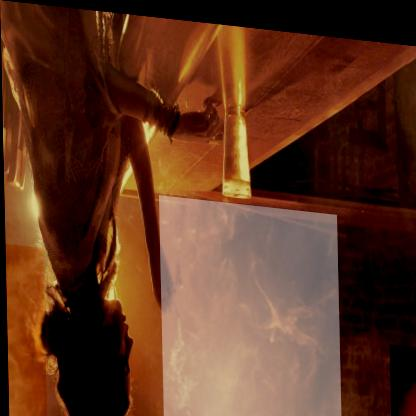smoke: (158, 192, 340, 416), (4, 244, 45, 416), (388, 336, 416, 416)
